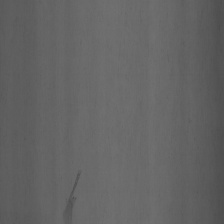water_spot: (60, 163, 87, 224)
